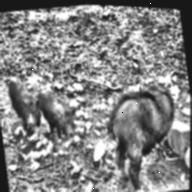boar: (93, 55, 191, 192), (32, 77, 95, 155), (3, 73, 49, 148)
